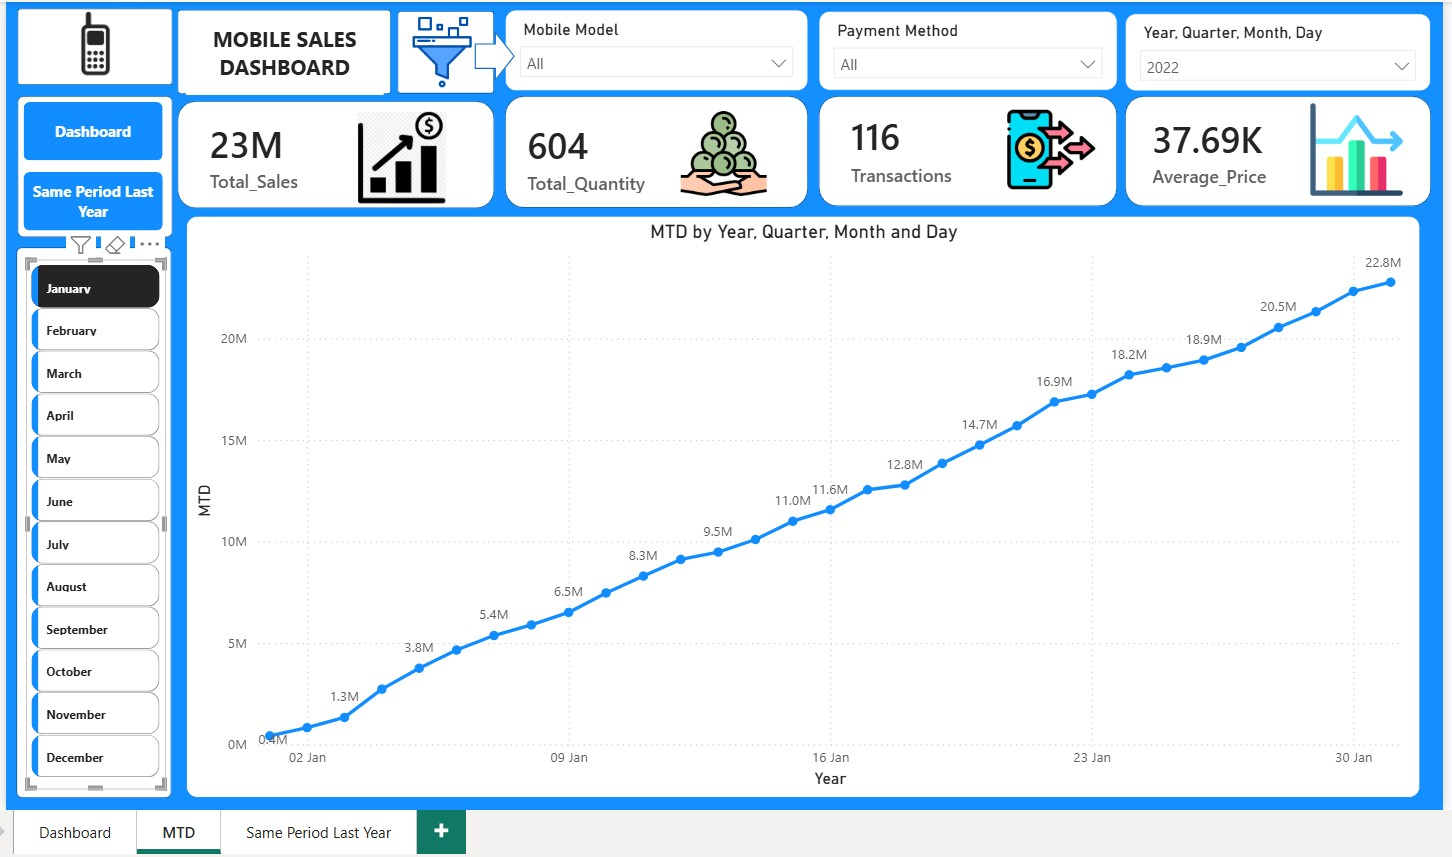

The page's visual inventory and layout, read from the dashboard file:
{"tool":"powerbi","page":{"name":"MTD ","canvas":[1280,720],"ordinal":1},"visuals":[{"type":"shape","box":[9.6,5.5,138.6,68.6],"z":0},{"type":"shape","box":[9.6,83.7,138.6,126.2],"z":1000},{"type":"shape","box":[152.3,87.8,282.7,96.1],"z":2000},{"type":"image","box":[16.5,5.5,124.9,63.1],"z":3000},{"type":"cardVisual","fields":{"Data":["Mobile_Data.Total_Sales"]},"box":[152.3,83.7,142.7,107],"z":4000},{"type":"image","box":[312.9,94.7,79.6,87.8],"z":5000},{"type":"shape","box":[444.6,83.7,270.3,100.2],"z":6000},{"type":"cardVisual","fields":{"Data":["Mobile_Data.Total_Quantity"]},"box":[435,90.6,164.7,97.4],"z":7000},{"type":"shape","box":[996.2,83.7,273.1,98.8],"z":8000},{"type":"shape","box":[723.2,83.7,266.2,98.8],"z":9000},{"type":"image","box":[591.4,94.7,96.1,81],"z":10000},{"type":"cardVisual","fields":{"Data":["Mobile_Data.Transactions"]},"box":[723.2,82.3,153.7,97.4],"z":11000},{"type":"cardVisual","fields":{"Data":["Mobile_Data.Average_Price"]},"box":[992.1,82.3,161.9,101.5],"z":12000},{"type":"image","box":[891.9,90.6,78.2,82.3],"z":13000},{"type":"image","box":[1154,90.6,97.4,82.3],"z":14000},{"type":"slicer","fields":{"Values":["Mobile_Data.Mobile Model"]},"box":[444.6,6.9,270.3,72.7],"z":15000},{"type":"slicer","fields":{"Values":["Custom_Calendar.Date.Variation.Date Hierarchy.Year","Custom_Calendar.Date.Variation.Date Hierarchy.Quarter","Custom_Calendar.Date.Variation.Date Hierarchy.Month","Custom_Calendar.Date.Variation.Date Hierarchy.Day"]},"box":[996.2,9.6,273.1,70],"z":16000},{"type":"slicer","fields":{"Values":["Mobile_Data.Payment Method"]},"box":[723.2,8.2,266.2,71.4],"z":17000},{"type":"shape","box":[348.5,8.2,86.4,74.1],"z":18000},{"type":"image","box":[344.4,12.3,89.2,64.5],"z":19000},{"type":"shape","box":[417.2,26.1,35.7,45.3],"z":20000},{"type":"shape","box":[152.3,6.9,190.7,75.5],"z":21000},{"type":"textbox","box":[160.5,15.1,175.6,67.2],"z":22000},{"type":"lineChart","fields":{"Category":["Custom_Calendar.Date.Variation.Date Hierarchy.Year","Custom_Calendar.Date.Variation.Date Hierarchy.Quarter","Custom_Calendar.Date.Variation.Date Hierarchy.Month","Custom_Calendar.Date.Variation.Date Hierarchy.Day"],"Y":["Mobile_Data.MTD"]},"box":[160.5,190.6,1099.1,518.8],"z":23000},{"type":"shape","box":[8.4,218.4,138.7,491],"z":24000},{"type":"advancedSlicerVisual","fields":{"Values":["Custom_Calendar.Date.Variation.Date Hierarchy.Month"]},"box":[18.1,229.2,124.3,471.7],"z":25000},{"type":"pageNavigator","box":[15.7,89.3,124.3,114.6],"z":26000}]}

Visuals, with their boxes on the page's 1280x720 design canvas (x1, y1, x2, y2). These are canvas units, not pixel positions in the 1452x857 screenshot, which may show the page scaled, cropped or inside an application window:
shape: [10,6,148,74]
shape: [10,84,148,210]
shape: [152,88,435,184]
image: [16,6,141,69]
cardVisual - Mobile_Data.Total_Sales: [152,84,295,191]
image: [313,95,392,182]
shape: [445,84,715,184]
cardVisual - Mobile_Data.Total_Quantity: [435,91,600,188]
shape: [996,84,1269,182]
shape: [723,84,989,182]
image: [591,95,688,176]
cardVisual - Mobile_Data.Transactions: [723,82,877,180]
cardVisual - Mobile_Data.Average_Price: [992,82,1154,184]
image: [892,91,970,173]
image: [1154,91,1251,173]
slicer - Mobile_Data.Mobile Model: [445,7,715,80]
slicer - Custom_Calendar.Date.Variation.Date Hierarchy.Year x Custom_Calendar.Date.Variation.Date Hierarchy.Quarter: [996,10,1269,80]
slicer - Mobile_Data.Payment Method: [723,8,989,80]
shape: [348,8,435,82]
image: [344,12,434,77]
shape: [417,26,453,71]
shape: [152,7,343,82]
textbox: [160,15,336,82]
lineChart - Custom_Calendar.Date.Variation.Date Hierarchy.Year x Custom_Calendar.Date.Variation.Date Hierarchy.Quarter: [160,191,1260,709]
shape: [8,218,147,709]
advancedSlicerVisual - Custom_Calendar.Date.Variation.Date Hierarchy.Month: [18,229,142,701]
pageNavigator: [16,89,140,204]
